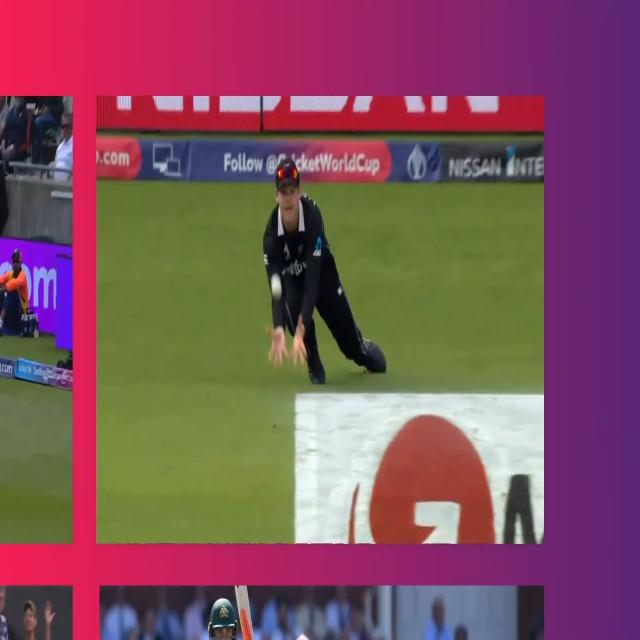ball: (268, 273, 284, 298)
